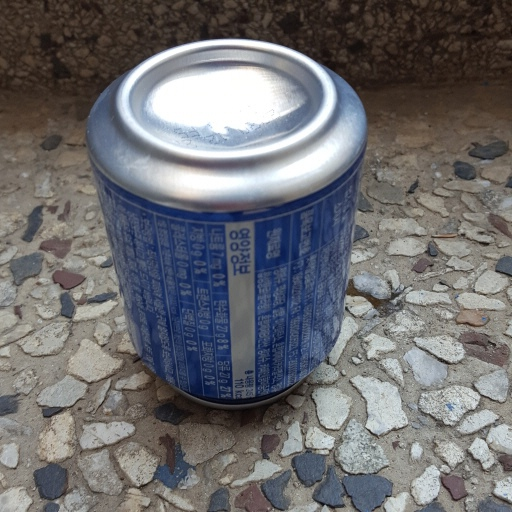Metal_0: (85, 35, 370, 409)
